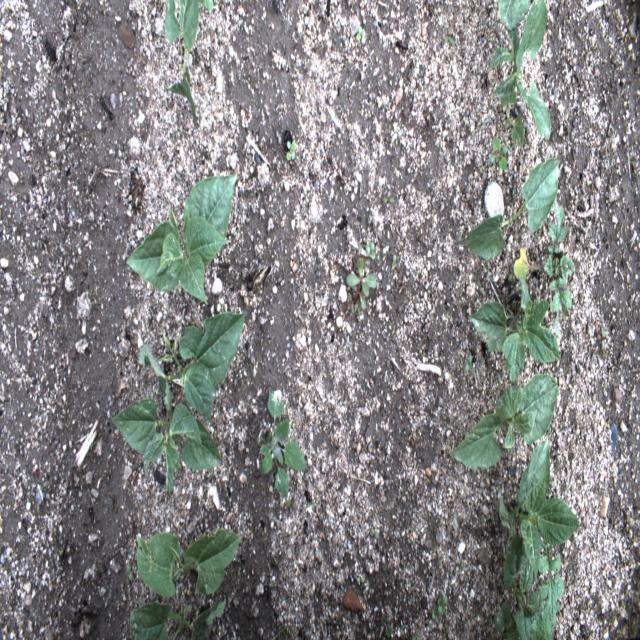crop: (125, 174, 237, 306), (138, 311, 247, 423), (499, 432, 580, 580), (110, 398, 224, 493), (456, 156, 559, 258), (450, 374, 558, 470), (468, 275, 561, 385), (488, 0, 552, 148), (137, 529, 243, 598), (164, 0, 213, 126), (130, 594, 227, 639), (504, 534, 540, 640), (498, 0, 530, 31)
weed: (513, 203, 575, 340), (257, 389, 307, 501), (494, 590, 554, 638), (537, 535, 565, 629), (346, 257, 378, 315), (489, 135, 508, 170), (597, 326, 609, 353), (444, 26, 456, 46), (286, 139, 296, 162), (381, 616, 391, 638), (365, 241, 375, 260), (438, 595, 448, 613), (356, 26, 365, 42), (464, 354, 472, 371), (432, 605, 440, 621), (126, 561, 132, 582), (369, 528, 379, 538), (285, 502, 297, 510), (355, 576, 366, 584), (392, 254, 397, 267)
